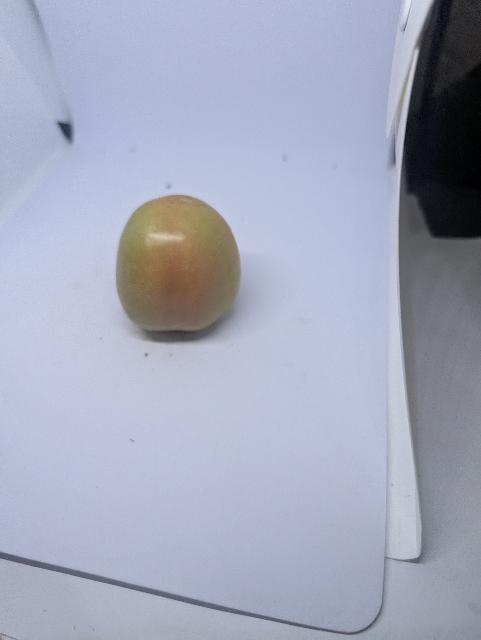breaker: (110, 191, 246, 340)
